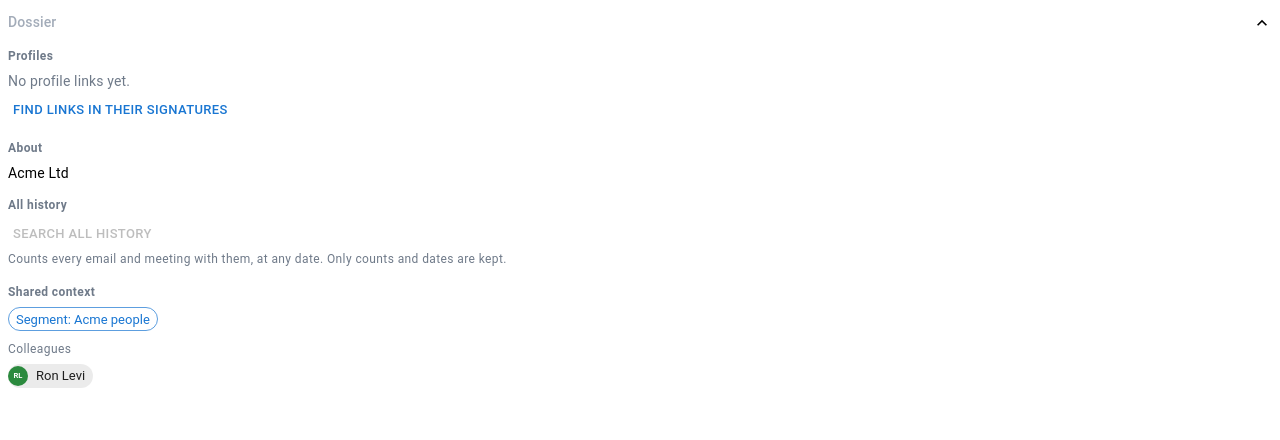
Test: the dossier (AD-46 rule 6) › reads the signature links on request
The image size is (1280, 440).
Step 1. Click the button "Find links in their signatures" → (120,110), box [8,95,233,126]
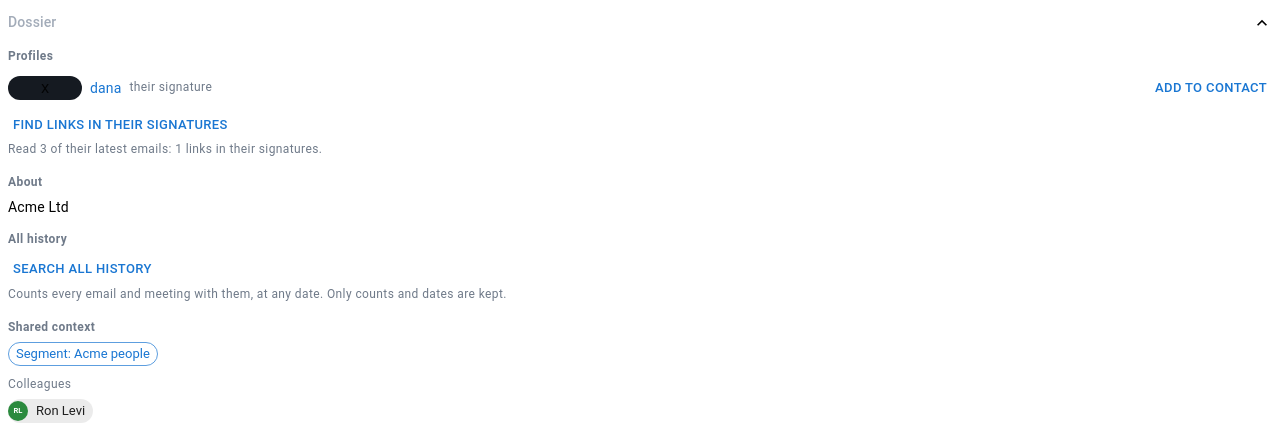
Expected: the text "Read 3 of their latest emails: 1 links in their signatures." is shown, [8,142,322,156]
